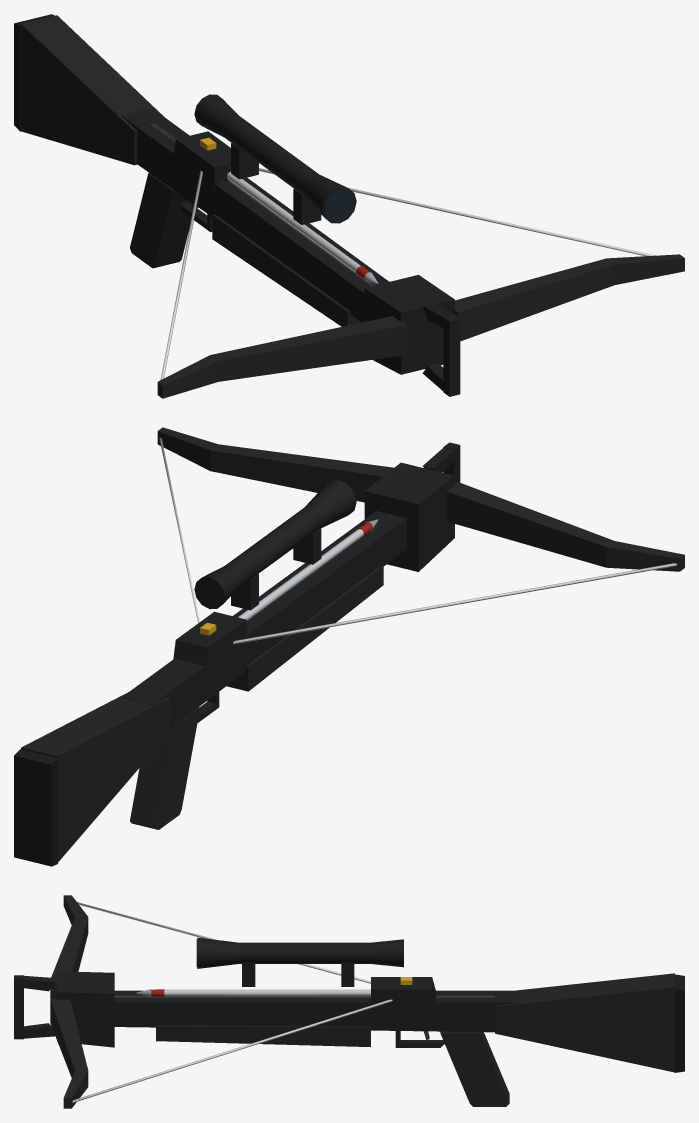
File: crossbow.glb
3 views of the same model, one above another, from view 1: azimuth 30°, elevation 25°; view 2: azimuth 150°, elevation 25°; view 3: azimuth 270°, elevation 25° (orthographic). The views are drawn at different scales.
Parts seen in each view (by area): view 1: crossbow; view 2: crossbow; view 3: crossbow.
Boxes of the visible parts, bbox=[...] form: crossbow: bbox=[14, 14, 684, 398]; crossbow: bbox=[14, 427, 684, 866]; crossbow: bbox=[14, 895, 684, 1108].
Bounding box in the file's own units: 0.58 × 0.217 × 0.812.
Materials: 1 (1 with a texture image).
